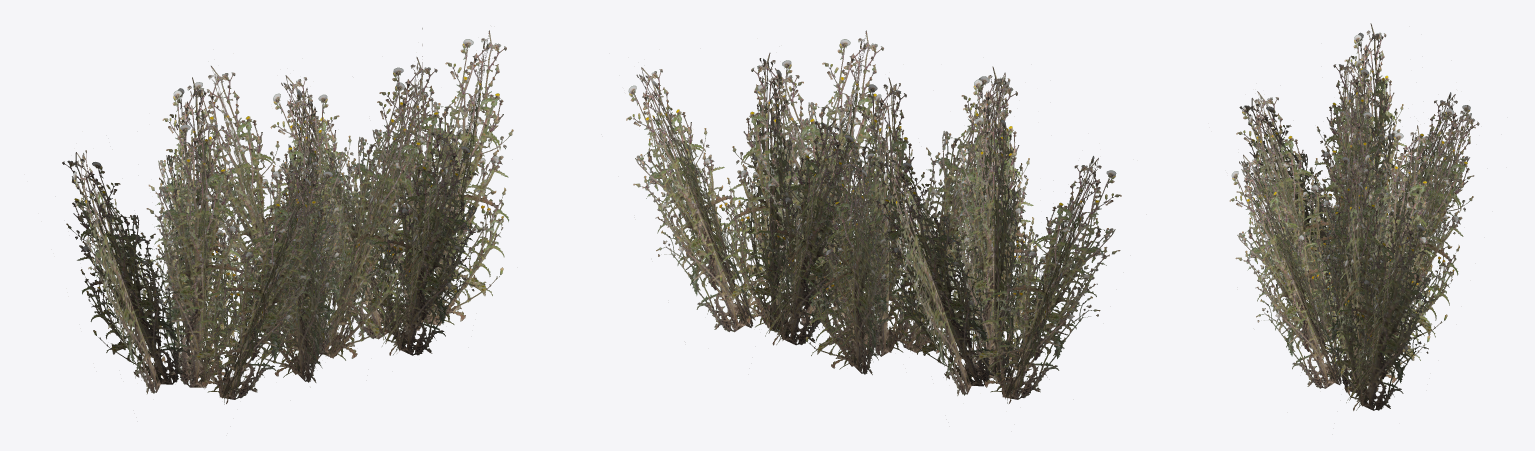
File: bush7.FBX
The picture shows the model from 3 angles, left to right: view 1: azimuth 30°, elevation 25°; view 2: azimuth 150°, elevation 25°; view 3: azimuth 270°, elevation 25°; orthographic projection. The views are drawn at different scales.
Visible parts, largest first — view 1: Box001; view 2: Box001; view 3: Box001.
Part boxes in pixels (x1=…): Box001: x1=62, y1=28, x2=513, y2=404; Box001: x1=626, y1=30, x2=1121, y2=403; Box001: x1=1229, y1=23, x2=1479, y2=410.
Size of the model in its own units: 4.45 by 2.39 by 2.67.
